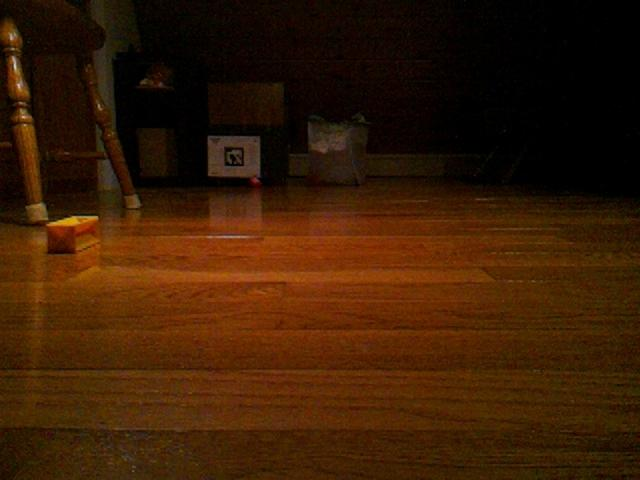yellow: (45, 214, 102, 258)
